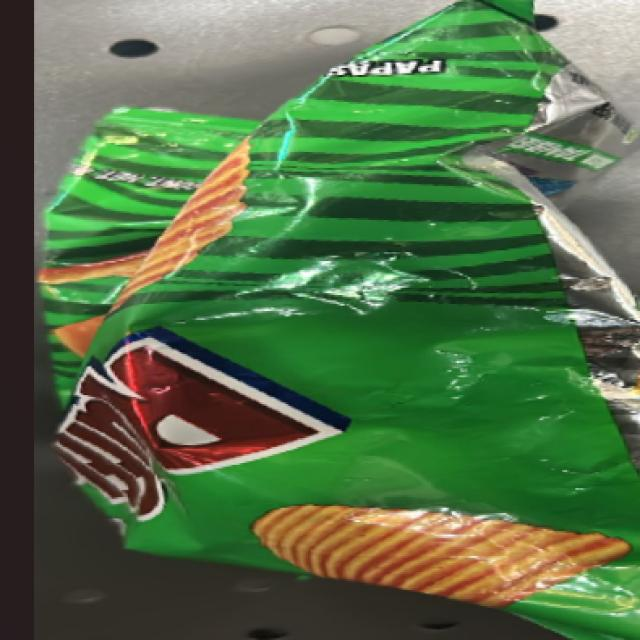rufflesQueso: (61, 45, 633, 607)
